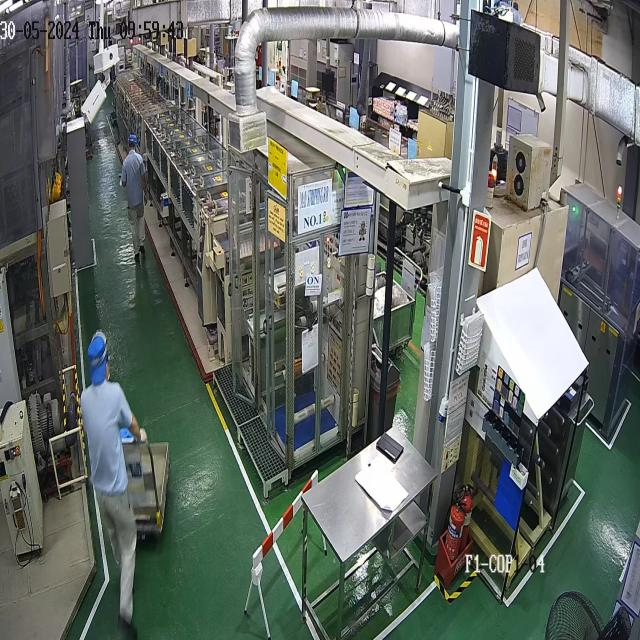Person: (80, 330, 148, 625), (120, 133, 148, 262)
